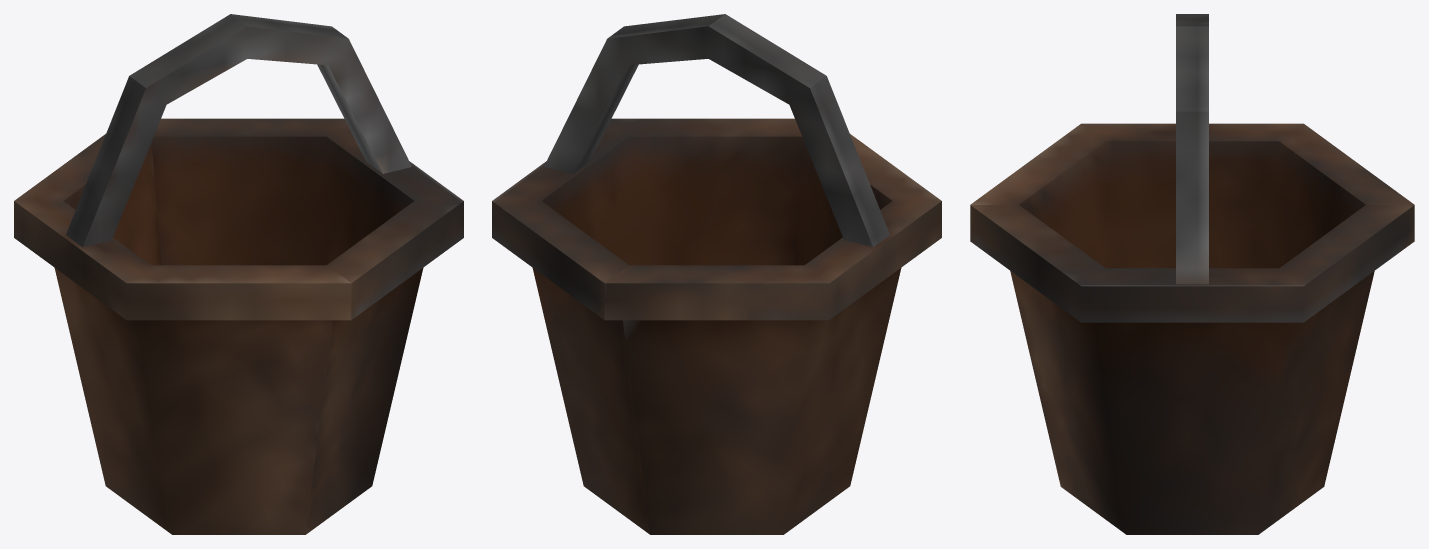
File: Asset_01_bucketthing_v001.obj
3 renders of one model, left to right at view 1: azimuth 30°, elevation 25°; view 2: azimuth 150°, elevation 25°; view 3: azimuth 270°, elevation 25°, orthographic.
Visible parts, largest first — view 1: bucketthing; view 2: bucketthing; view 3: bucketthing.
Boxes of the visible parts, left/top/right/bottom form: bucketthing: left=14, top=14, right=463, bottom=534; bucketthing: left=492, top=14, right=941, bottom=534; bucketthing: left=970, top=14, right=1414, bottom=534.
Bounding box in the file's own units: 0.4356 × 0.575 × 0.503.
